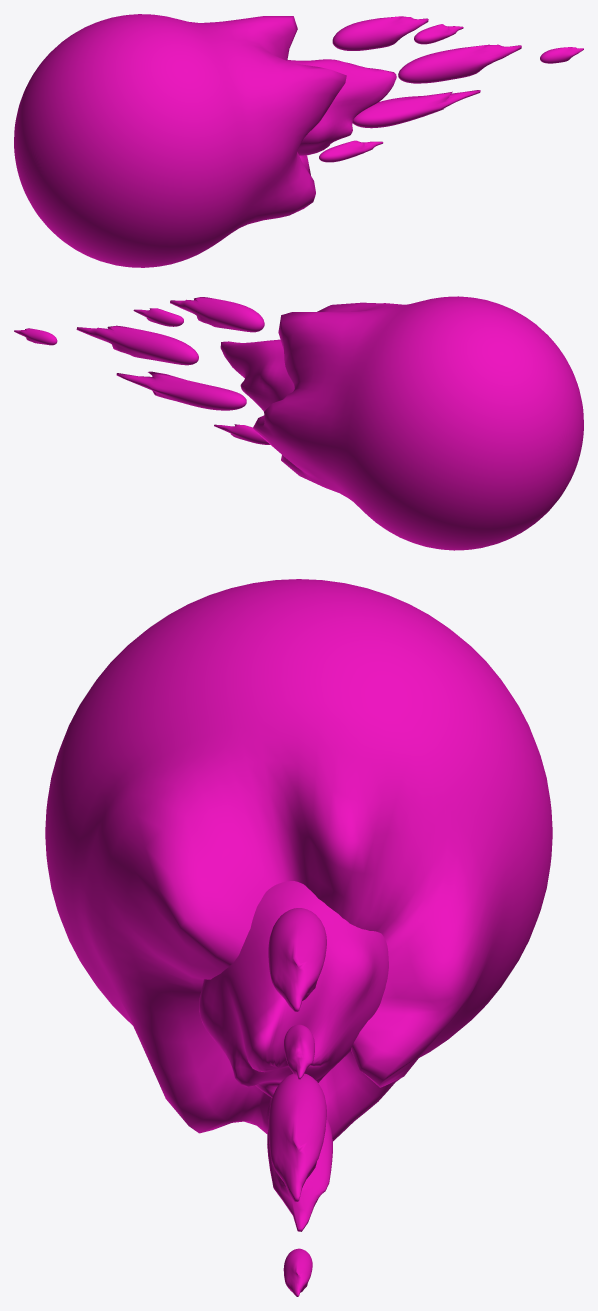
File: Monster Mash - Dash Splat.fbx
3 views of the same model, one above another, from view 1: azimuth 30°, elevation 25°; view 2: azimuth 150°, elevation 25°; view 3: azimuth 270°, elevation 25° (orthographic). The views are drawn at different scales.
Visible parts, largest first — view 1: Sphere, Sphere.001, Sphere.004, Sphere.002, Sphere.003, Sphere.006, Sphere.005, Sphere.007; view 2: Sphere, Sphere.001, Sphere.004, Sphere.002, Sphere.003, Sphere.005, Sphere.006, Sphere.007; view 3: Sphere, Sphere.001, Sphere.004, Sphere.003, Sphere.002, Sphere.005, Sphere.007.
Boxes of the visible parts, x1,y1,x2,y2 form: Sphere: (14, 14, 346, 267); Sphere.001: (287, 59, 396, 155); Sphere.004: (398, 44, 521, 83); Sphere.002: (352, 90, 480, 128); Sphere.003: (332, 16, 428, 50); Sphere.006: (319, 140, 383, 162); Sphere.005: (414, 24, 463, 44); Sphere.007: (540, 47, 583, 63); Sphere: (253, 296, 583, 550); Sphere.001: (220, 339, 294, 411); Sphere.004: (76, 325, 198, 365); Sphere.002: (116, 371, 246, 410); Sphere.003: (170, 297, 264, 332); Sphere.005: (133, 308, 183, 326); Sphere.006: (214, 424, 270, 444); Sphere.007: (14, 328, 57, 345); Sphere: (45, 579, 552, 1141); Sphere.001: (199, 881, 388, 1097); Sphere.004: (268, 1073, 326, 1201); Sphere.003: (268, 908, 326, 1011); Sphere.002: (267, 1117, 332, 1231); Sphere.005: (284, 1024, 314, 1079); Sphere.007: (283, 1248, 312, 1296).
Bounding box in the file's own units: 497 × 198 × 197.
